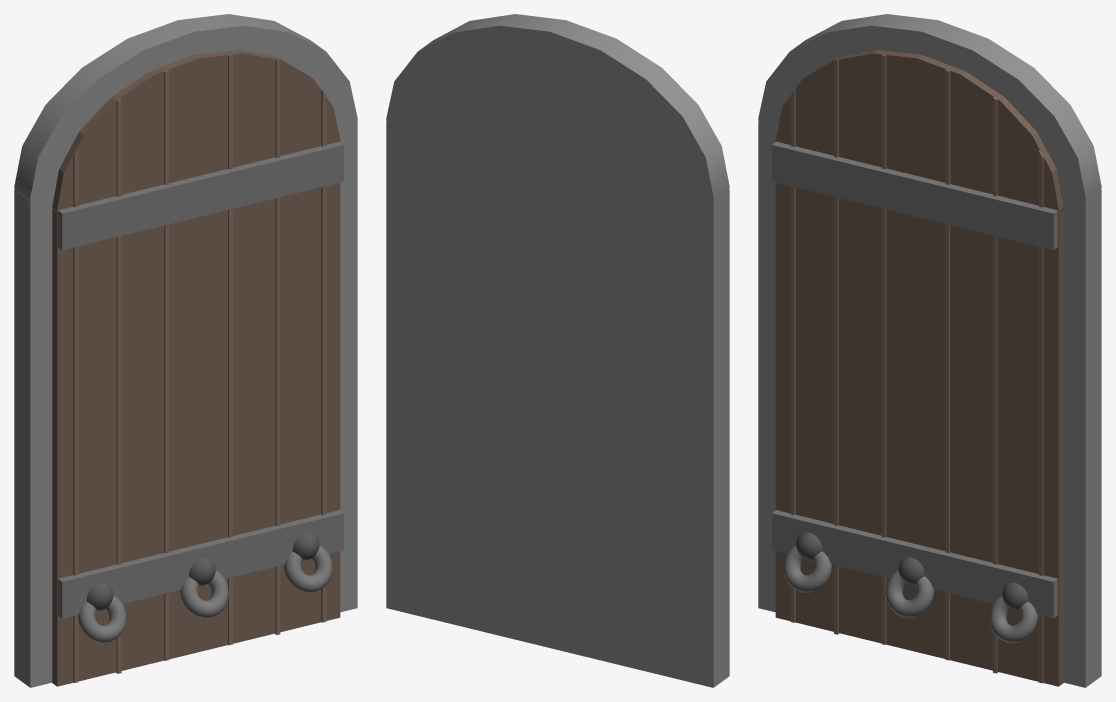
File: SlidingDoor.fbx
3 renders of one model, left to right at view 1: azimuth 30°, elevation 25°; view 2: azimuth 150°, elevation 25°; view 3: azimuth 330°, elevation 25°, orthographic.
Visible parts, largest first — view 1: pCube2, pCube3, pCube4, pCube5, pCube9, pCube12, pCube13, pCube11, pCube8, pCube10, pTorus4, pTorus2 (+1 smaller); view 2: pCube3; view 3: pCube2, pCube3, pCube4, pCube5, pCube11, pCube10, pCube8, pCube13, pCube12, pCube9, pTorus3, pTorus4 (+1 smaller).
Boxes of the visible parts, x1,y1,x2,y2 form: pCube2: (52,50,340,686); pCube3: (14,14,357,687); pCube4: (57,141,343,250); pCube5: (58,510,343,618); pCube9: (275,59,280,634); pCube12: (116,98,121,673); pCube13: (73,148,78,682); pCube11: (164,70,168,660); pCube8: (228,55,232,645); pCube10: (321,90,326,622); pTorus4: (180,557,228,617); pTorus2: (284,532,332,592); pCube3: (386,14,729,687); pCube2: (775,50,1063,686); pCube3: (758,14,1101,687); pCube4: (772,141,1058,250); pCube5: (772,510,1057,618); pCube11: (881,54,886,644); pCube10: (1038,150,1048,683); pCube8: (945,69,950,660); pCube13: (790,89,795,622); pCube12: (834,59,839,634); pCube9: (993,97,998,673); pTorus3: (783,532,831,592); pTorus4: (885,557,934,617).
Size of the model in its own units: 2.91 by 5.24 by 0.5536.
